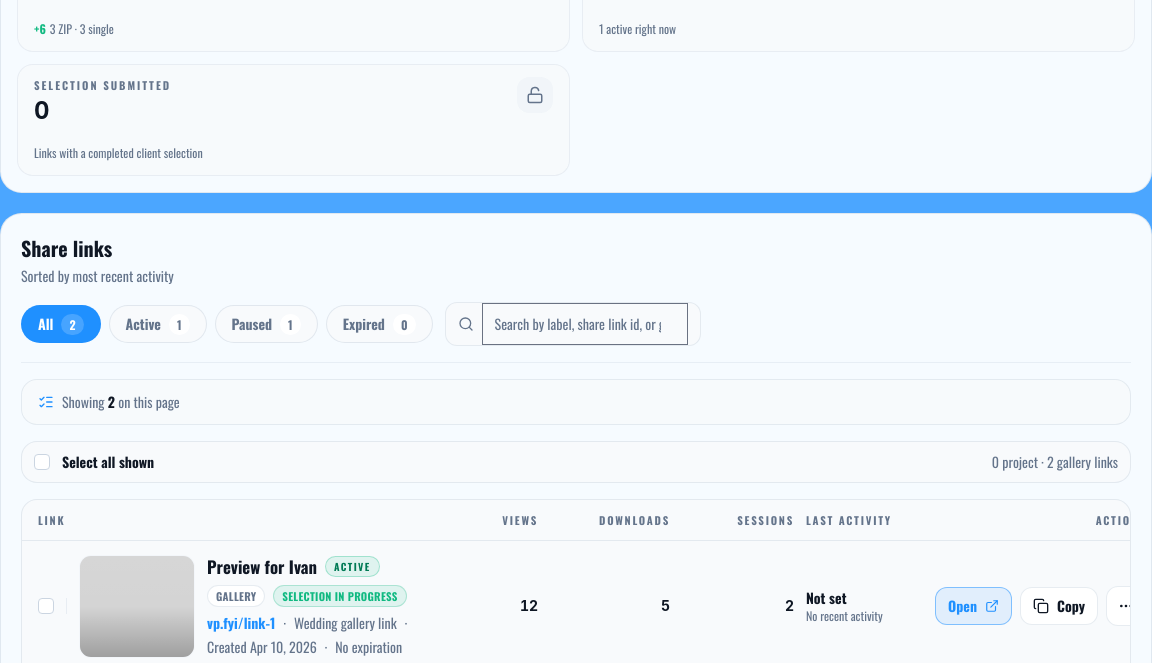
Test case: ShareLinksDashboardPage › keeps loaded rows visible while filtered results are revalidating
The image size is (1152, 663).
(page scrolled)
What coordinates should you click on to do the following:
click the button "Paused1"
I would click on:
 (266, 324)
Its box is [215,305,318,343].
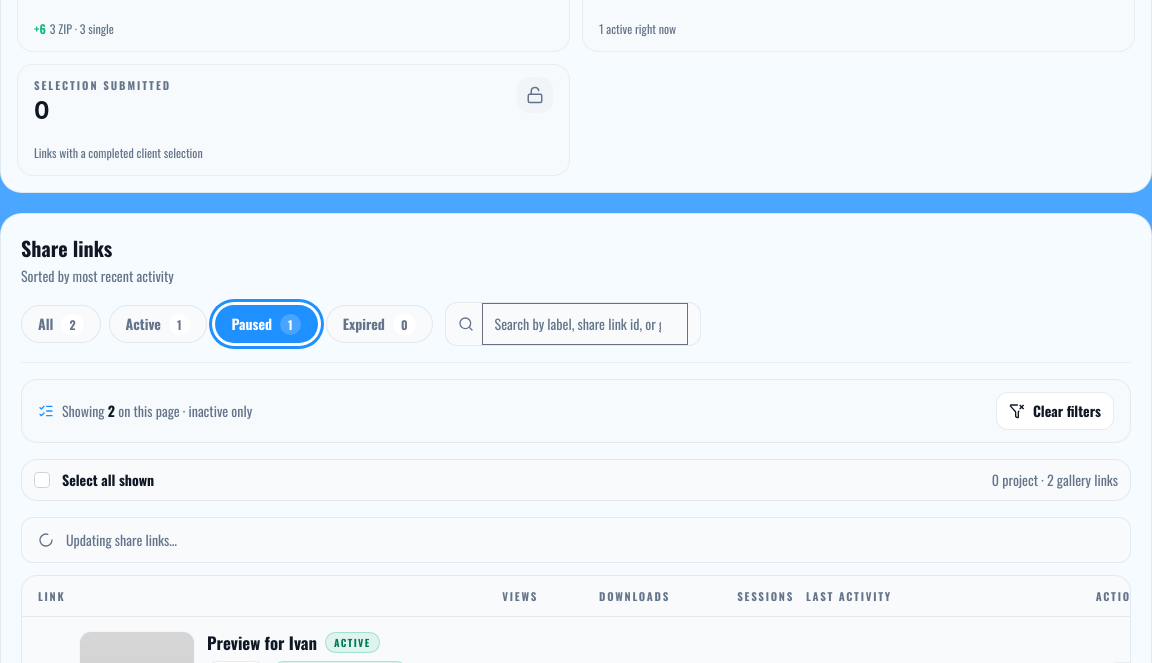
Result: the message "Updating share links" is shown at [21,517,1131,563]
